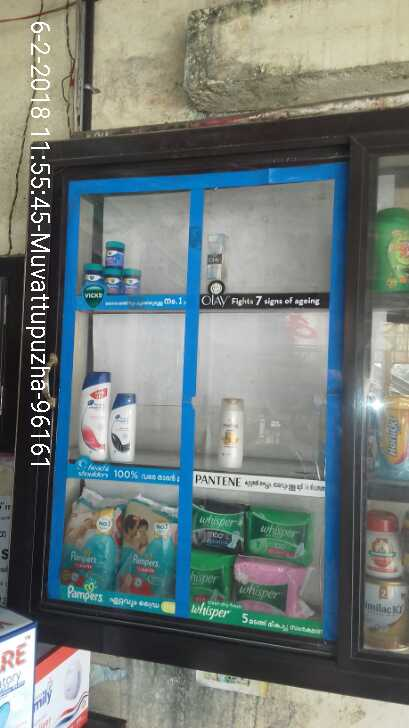vicks: (80, 233, 145, 301)
